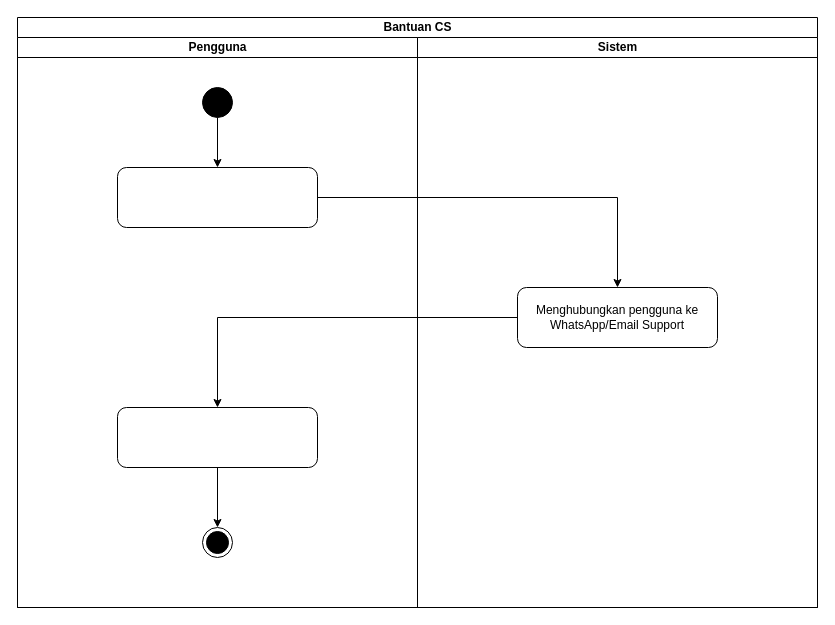
The diagram is 835 pixels wide and 625 high, and some of its shapes have lost their labels. Each missing label, with the centre of its shape:
"Klik menu bantuan" goes at [217,197].
"Mengirim pertanyaan" goes at [217,437].
